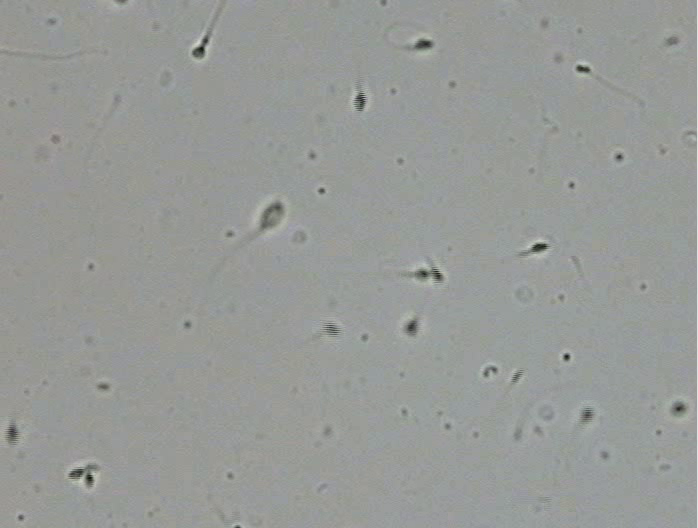S: (260, 201, 284, 230), (3, 424, 19, 445), (322, 321, 341, 337), (353, 91, 367, 112), (429, 266, 444, 283), (579, 406, 594, 423), (404, 319, 418, 336), (531, 242, 550, 254), (414, 38, 433, 50), (68, 467, 84, 480), (672, 403, 688, 415), (192, 46, 206, 59), (415, 268, 430, 280), (575, 64, 592, 74), (85, 473, 94, 486)
